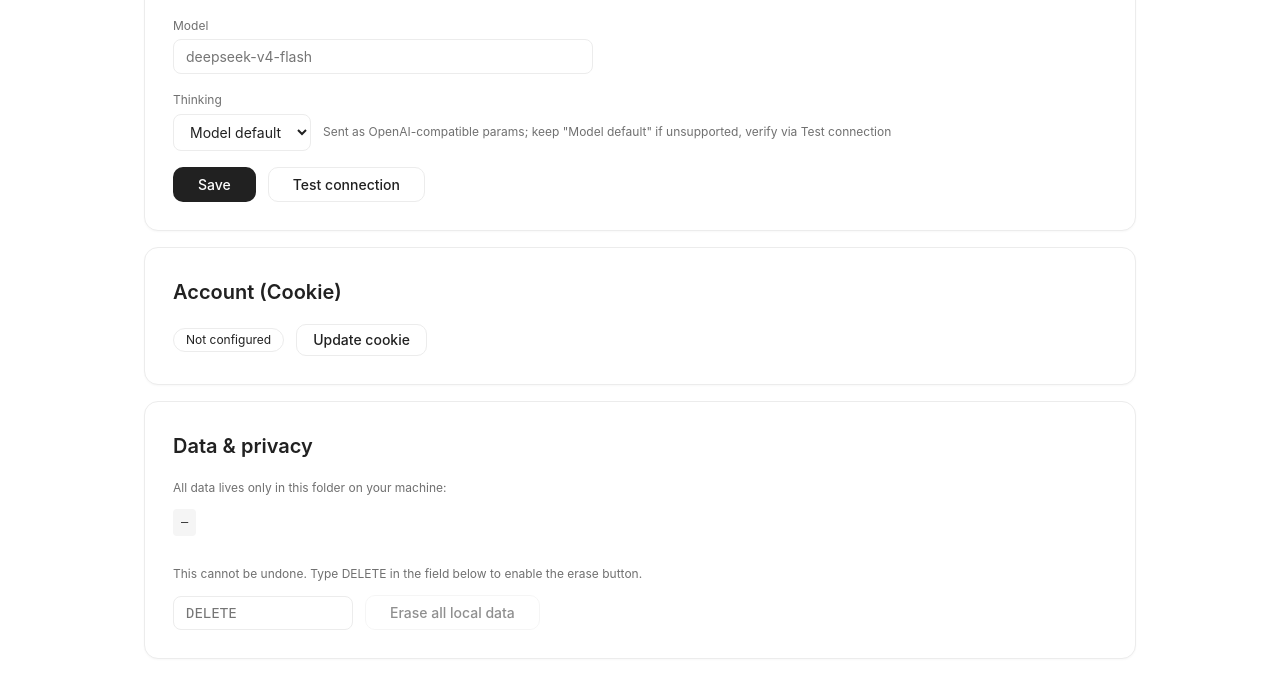
Settings view › keeps the destructive erase button disabled until DELETE is typed
(page scrolled)
Expected: the button with test id "clear-data-btn" is disabled, [365,596,540,630]
In the field with test id "clear-confirm-input": (263, 613) [173,596,353,630], type "delete "
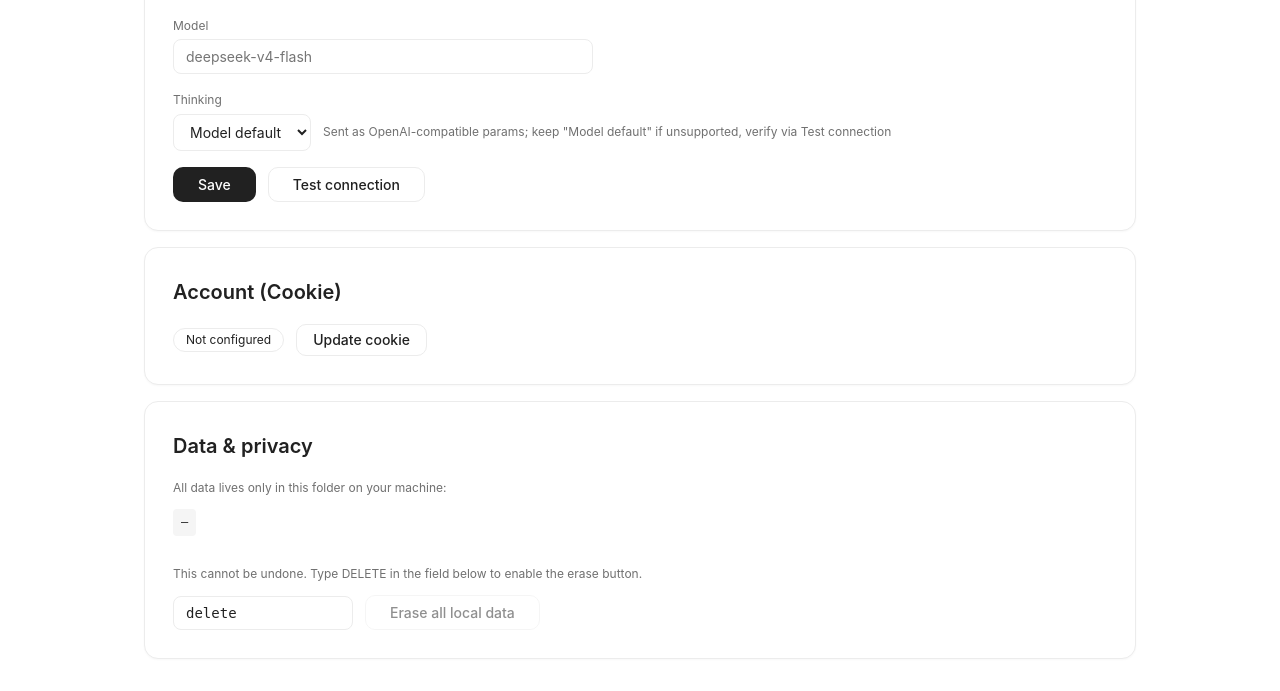
Expected: the button with test id "clear-data-btn" is disabled, [365,596,540,630]
Replace the text in the field with test id "clear-confirm-input" with "DELETE": (263, 613) [173,596,353,630]
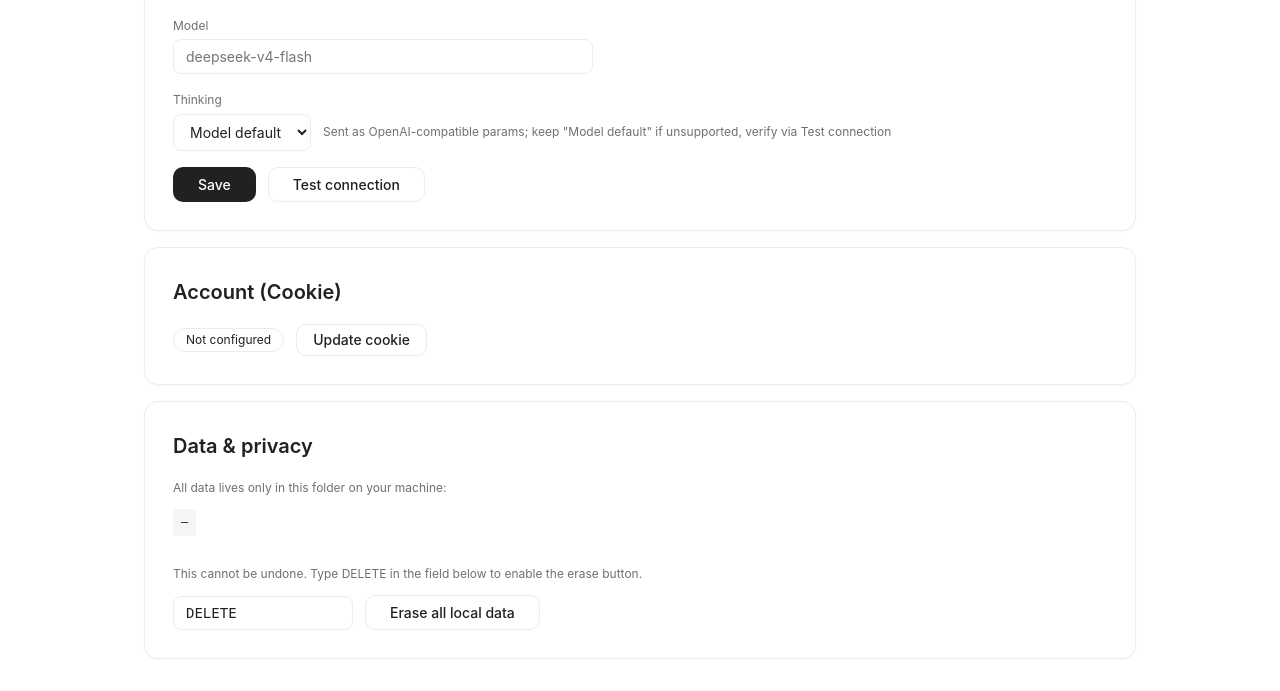
Expected: the button with test id "clear-data-btn" is enabled, [365,596,540,630]
